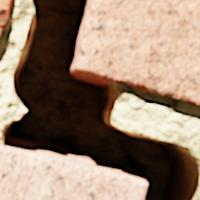brick: (75, 0, 199, 105), (0, 145, 146, 199), (0, 0, 12, 38)
crack: (2, 0, 199, 199)
